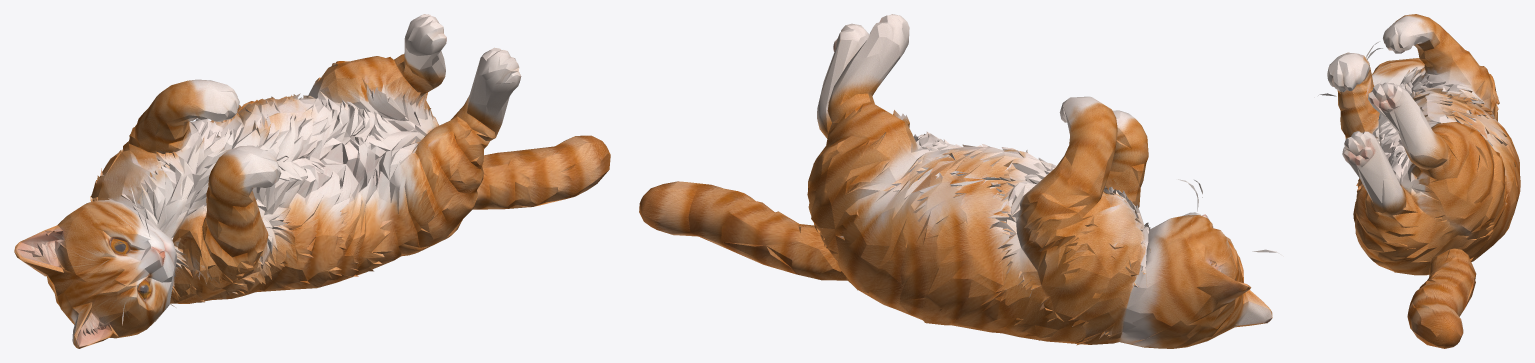
The model's file is hf_20261122_074938_e6503f5b-35ed-4d07-8c13-fbc23bb12f2b.glb.
3 views of the same model, side by side, from view 1: azimuth 30°, elevation 25°; view 2: azimuth 150°, elevation 25°; view 3: azimuth 270°, elevation 25° (orthographic). The views are drawn at different scales.
Size of the model in its own units: 1.9 by 0.7227 by 0.7074.
Materials: 1 (1 with a texture image).
